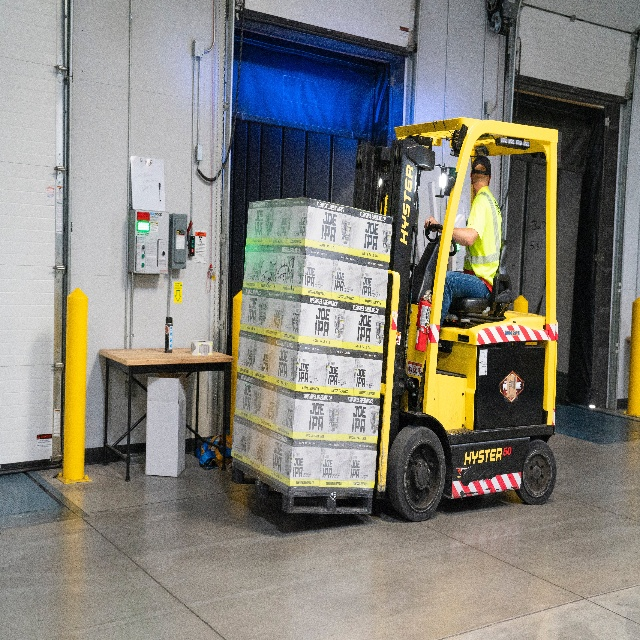Sin_guantes: (424, 217, 439, 232)
